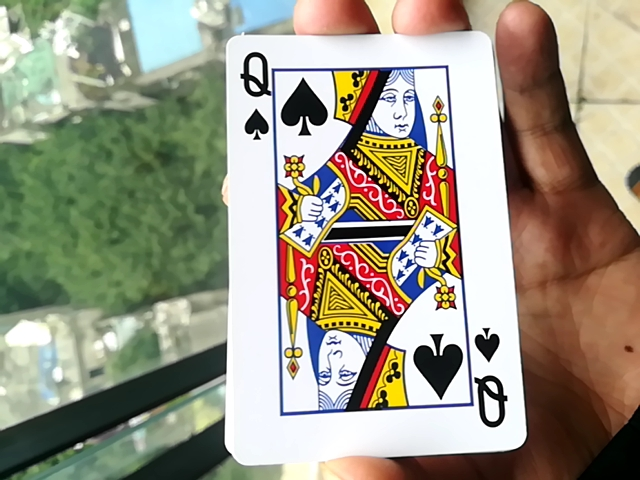ht q: (219, 20, 518, 460)
